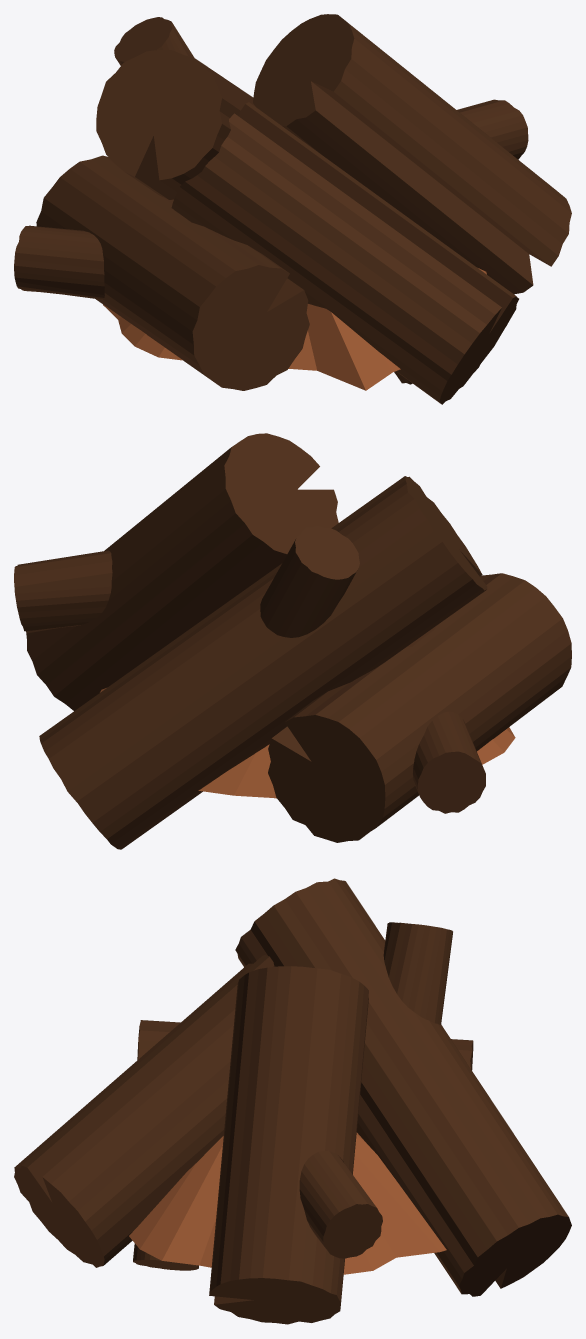
Rendered from Campfire.fbx.
3 views of the same model, one above another, from view 1: azimuth 30°, elevation 25°; view 2: azimuth 150°, elevation 25°; view 3: azimuth 270°, elevation 25° (orthographic). The views are drawn at different scales.
Visible parts, largest first — view 1: Cylinder, Cylinder.004, Cylinder.002, Cylinder.001, Cylinder.003; view 2: Cylinder.001, Cylinder.002, Cylinder.004, Cylinder.003; view 3: Cylinder.001, Cylinder.004, Cylinder, Cylinder.003, Cylinder.002.
Part boxes in pixels (bbox=[...]): Cylinder: bbox=[171, 102, 518, 404]; Cylinder.004: bbox=[253, 14, 571, 294]; Cylinder.002: bbox=[14, 155, 309, 390]; Cylinder.001: bbox=[96, 17, 255, 199]; Cylinder.003: bbox=[103, 268, 486, 390]; Cylinder.001: bbox=[39, 476, 487, 849]; Cylinder.002: bbox=[268, 573, 571, 842]; Cylinder.004: bbox=[14, 433, 338, 710]; Cylinder.003: bbox=[100, 688, 515, 798]; Cylinder.001: bbox=[235, 878, 571, 1296]; Cylinder.004: bbox=[209, 966, 382, 1324]; Cylinder: bbox=[14, 955, 273, 1270]; Cylinder.003: bbox=[129, 1132, 446, 1274]; Cylinder.002: bbox=[137, 1020, 473, 1070].
Size of the model in its own units: 101 by 63.63 by 101.
